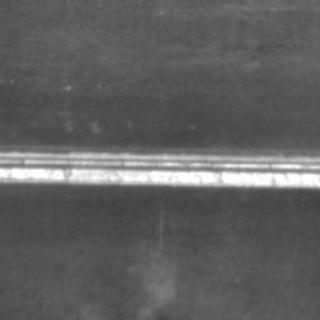scratches: (0, 134, 318, 192)
